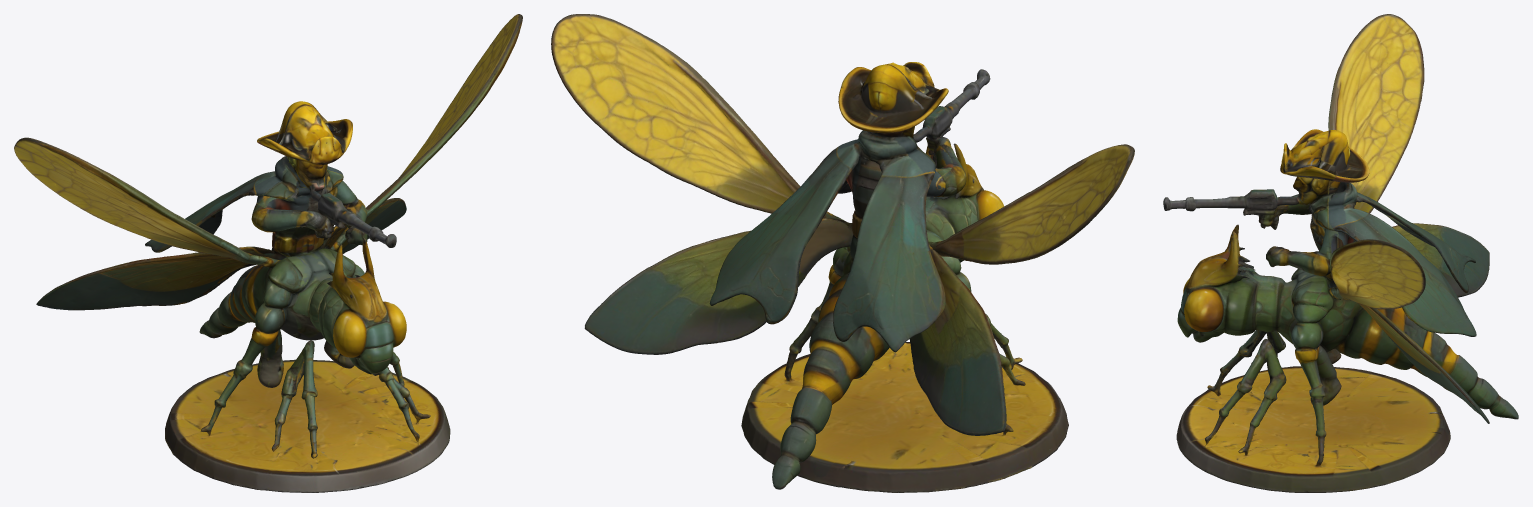
The model's file is Dragonfly_Cavalry.glb.
3 renders of one model, left to right at view 1: azimuth 30°, elevation 25°; view 2: azimuth 150°, elevation 25°; view 3: azimuth 270°, elevation 25°, orthographic. The views are drawn at different scales.
Bounding box in the file's own units: 2 × 1.24 × 1.28.
Materials: 1 (1 with a texture image).
